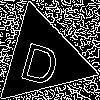D: (17, 33, 65, 87)
